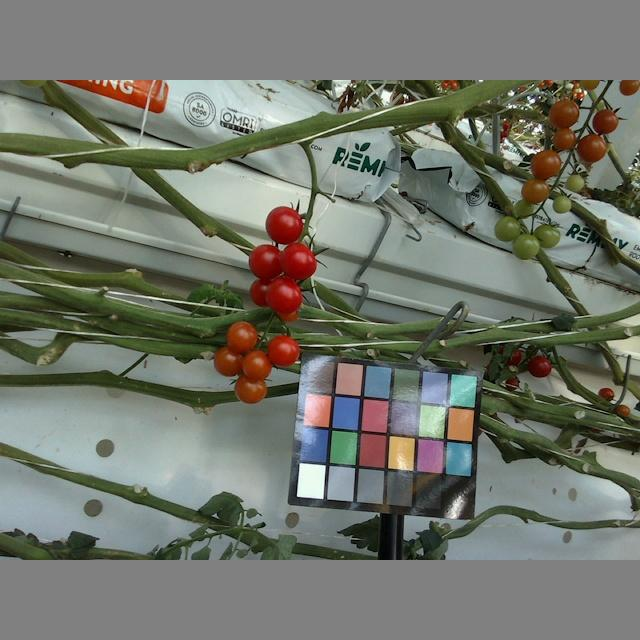green: (512, 232, 542, 260), (531, 222, 562, 247), (492, 215, 519, 243), (563, 173, 586, 193), (553, 192, 573, 212)
pink: (211, 346, 246, 378), (233, 373, 270, 403), (226, 319, 259, 352), (550, 94, 581, 129), (577, 131, 608, 164), (241, 348, 273, 378), (532, 147, 562, 177), (592, 106, 624, 134), (518, 177, 550, 205), (553, 127, 577, 151)
red: (246, 244, 290, 282), (266, 204, 304, 246), (263, 279, 306, 312), (281, 243, 319, 278), (267, 332, 301, 365), (525, 355, 554, 378)
